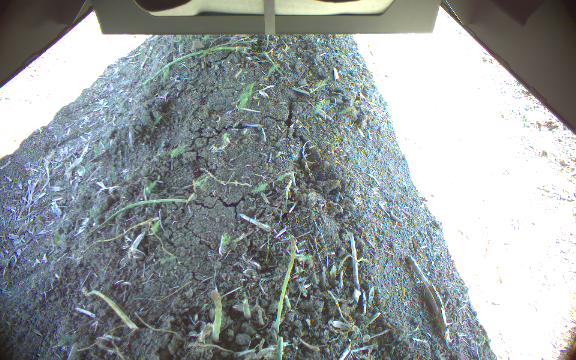aspa: (274, 235, 298, 325), (205, 287, 221, 344)
